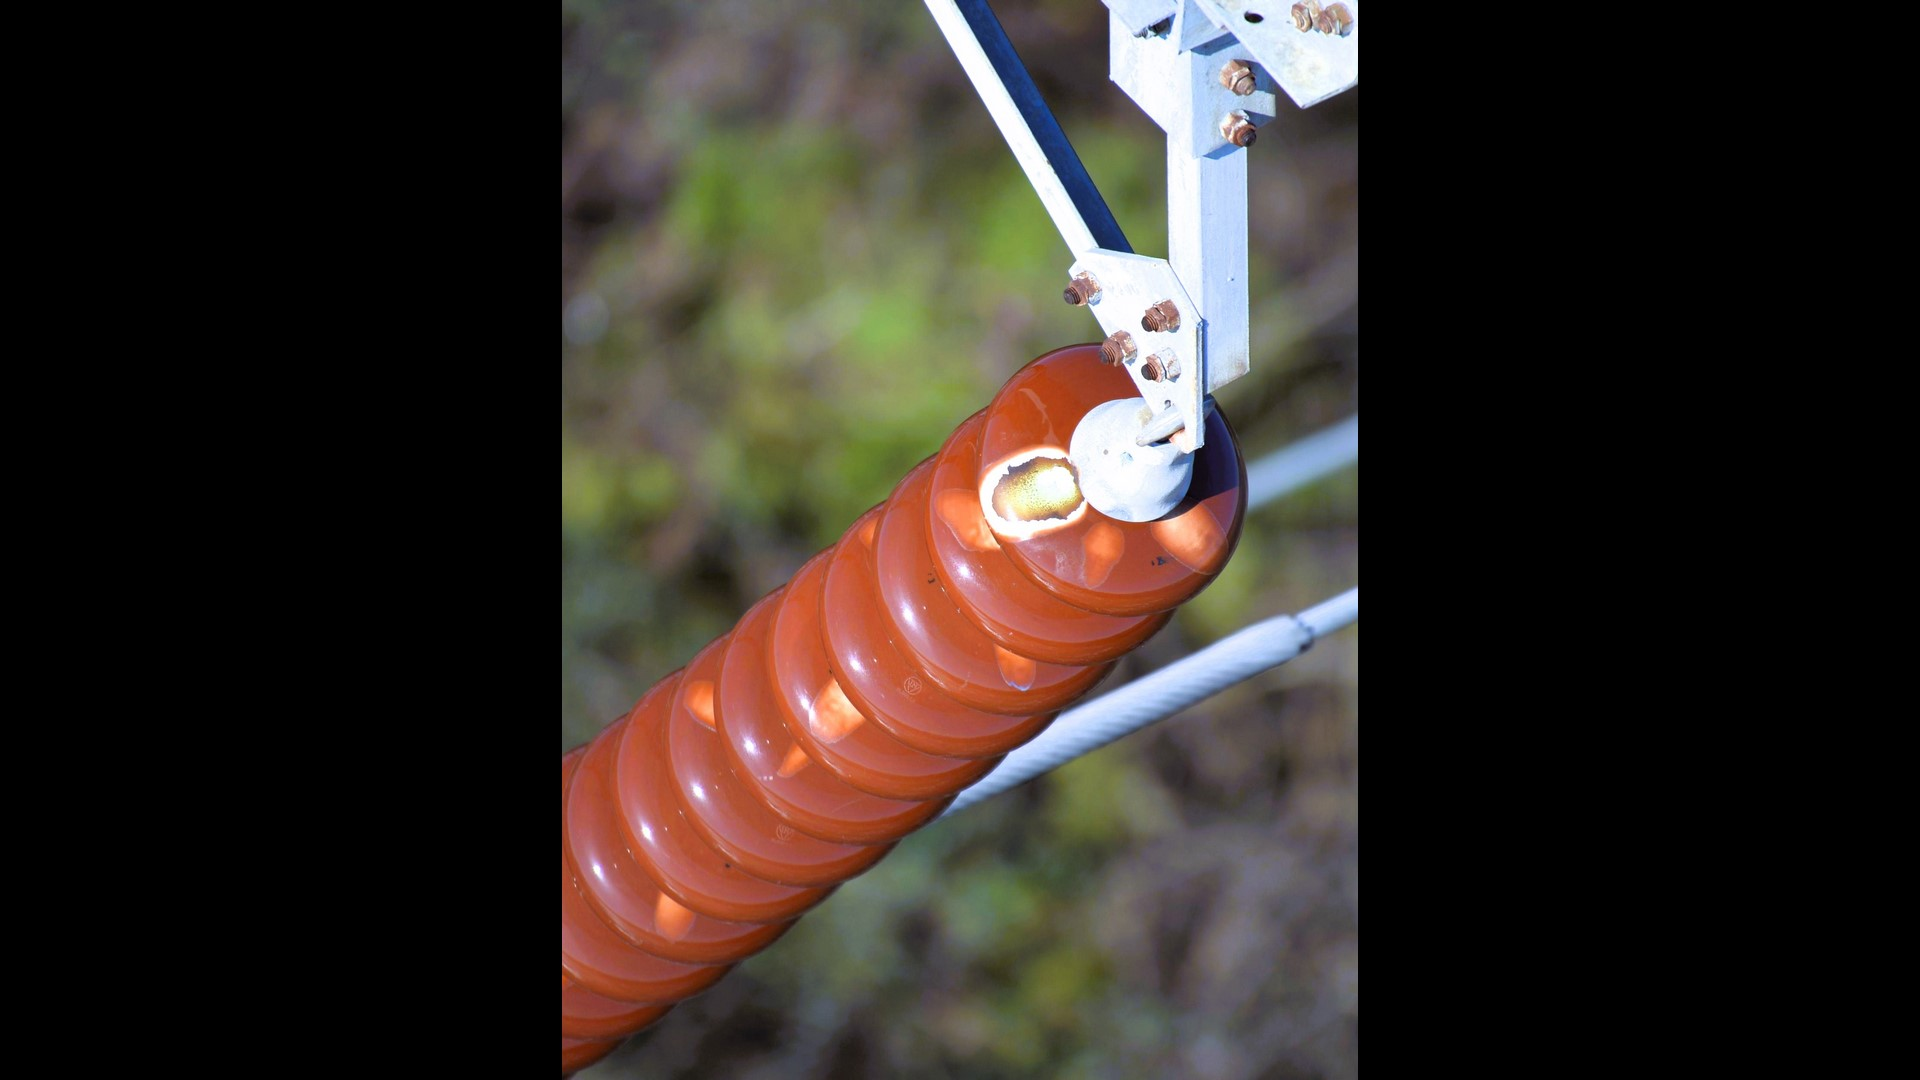Insulator flashover: (971, 342, 1255, 611)
